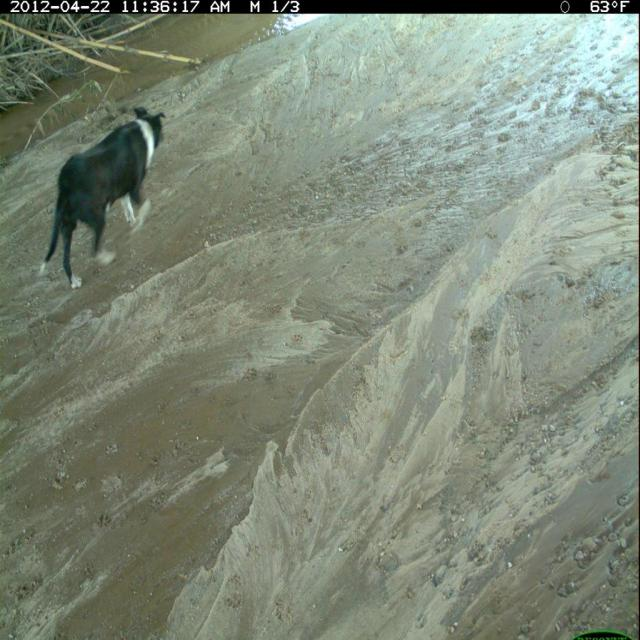dog: (38, 102, 170, 297)
